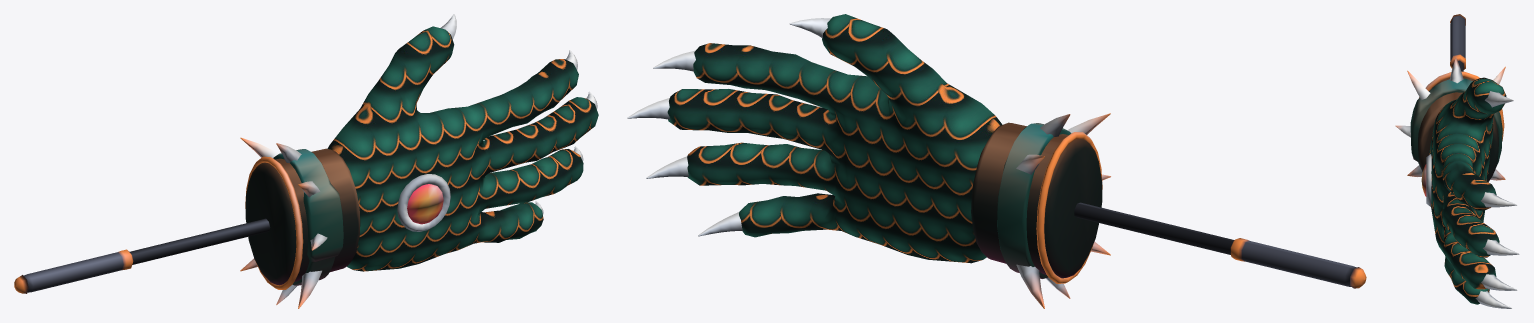
The model's file is glove_dragon.glb.
The picture shows the model from 3 angles, left to right: view 1: azimuth 30°, elevation 25°; view 2: azimuth 150°, elevation 25°; view 3: azimuth 270°, elevation 25°; orthographic projection. The views are drawn at different scales.
Visible parts, largest first — view 1: Glove, Stick, Glow; view 2: Glove, Stick, Glow; view 3: Glove, Stick, Glow.
Boxes of the visible parts, x1,y1,x2,y2 form: Glove: (240,14,598,308); Stick: (14,218,270,293); Glow: (245,156,443,289); Glove: (627,14,1110,308); Stick: (1074,202,1366,288); Glow: (1036,132,1102,283); Glove: (1395,57,1519,308); Stick: (1450,14,1465,71); Glow: (1419,71,1504,196).
Bounding box in the file's own units: 1.2 × 0.4102 × 0.2496.
4 materials, 1 textured.
